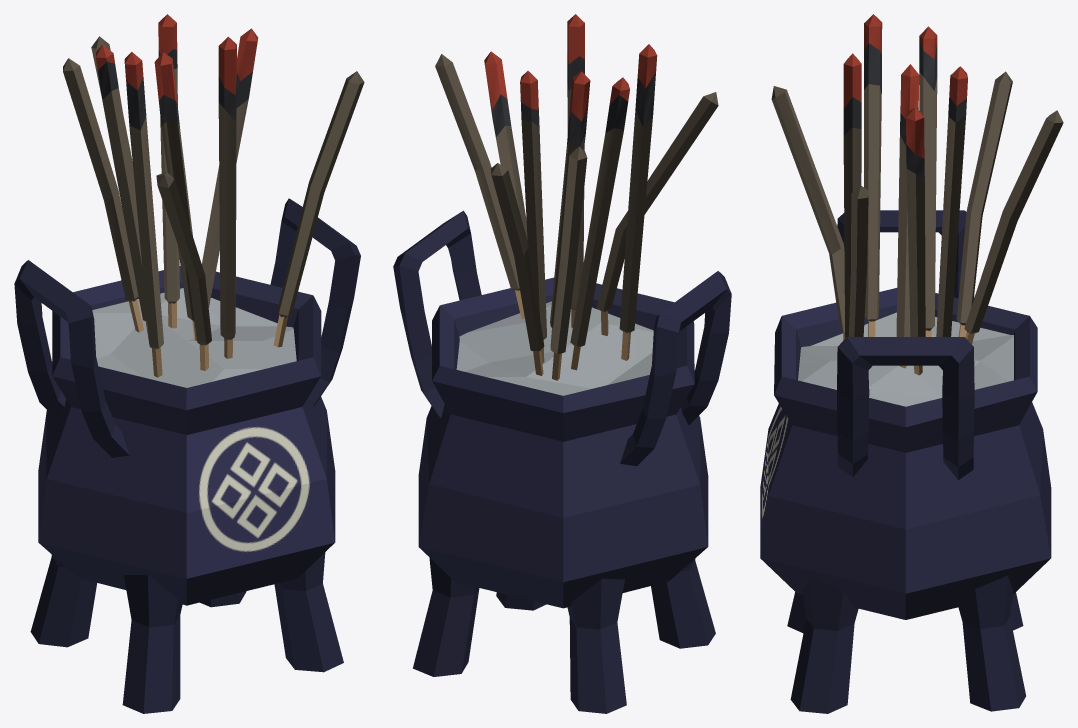
The model's file is samurai_SM_Prop_Incense_Burner_02.gltf.
3 views of the same model, side by side, from view 1: azimuth 30°, elevation 25°; view 2: azimuth 150°, elevation 25°; view 3: azimuth 270°, elevation 25° (orthographic). The views are drawn at different scales.
Parts seen in each view (by area): view 1: SM_Prop_Incense_Burner_02; view 2: SM_Prop_Incense_Burner_02; view 3: SM_Prop_Incense_Burner_02.
Boxes of the visible parts, x1,y1,x2,y2 form: SM_Prop_Incense_Burner_02: (14,14,364,713); SM_Prop_Incense_Burner_02: (393,14,731,713); SM_Prop_Incense_Burner_02: (760,14,1063,713).
Bounding box in the file's own units: 0.3154 × 0.628 × 0.2803.
1 material, 1 textured.
